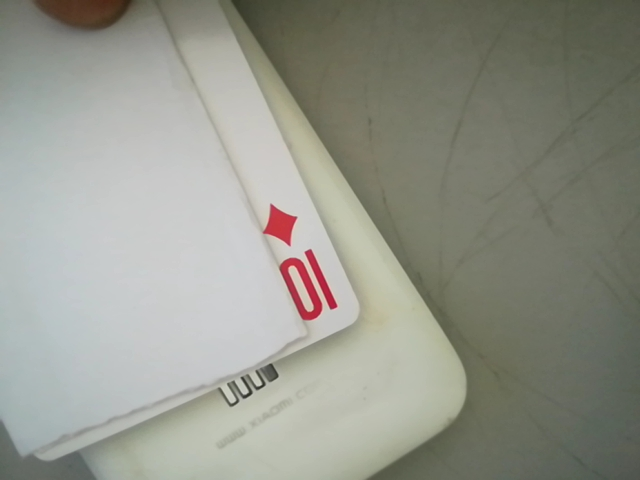fk 10: (254, 195, 357, 338)
